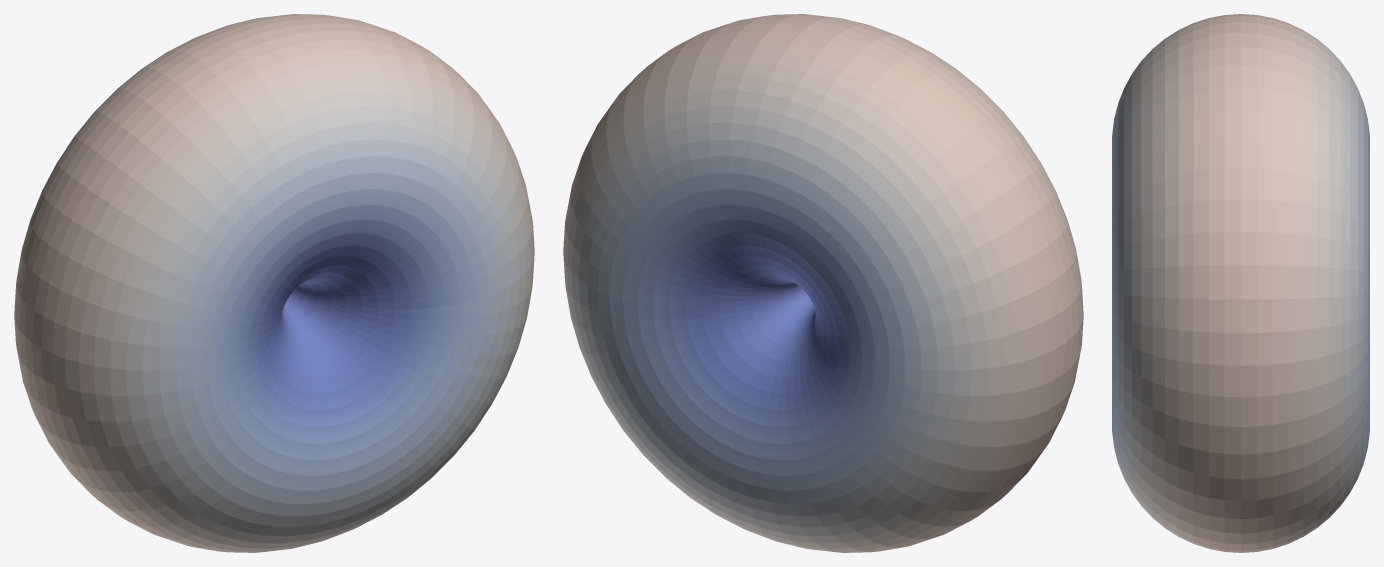
The picture shows the model from 3 angles, left to right: view 1: azimuth 30°, elevation 25°; view 2: azimuth 150°, elevation 25°; view 3: azimuth 270°, elevation 25°; orthographic projection. The views are drawn at different scales.
Visible parts, largest first — view 1: world; view 2: world; view 3: world.
Part boxes in pixels (left/top/right/bottom): world: left=14, top=14, right=534, bottom=552; world: left=563, top=14, right=1083, bottom=552; world: left=1112, top=14, right=1369, bottom=552.
Bounding box in the file's own units: 19.2 × 19.16 × 9.18.
